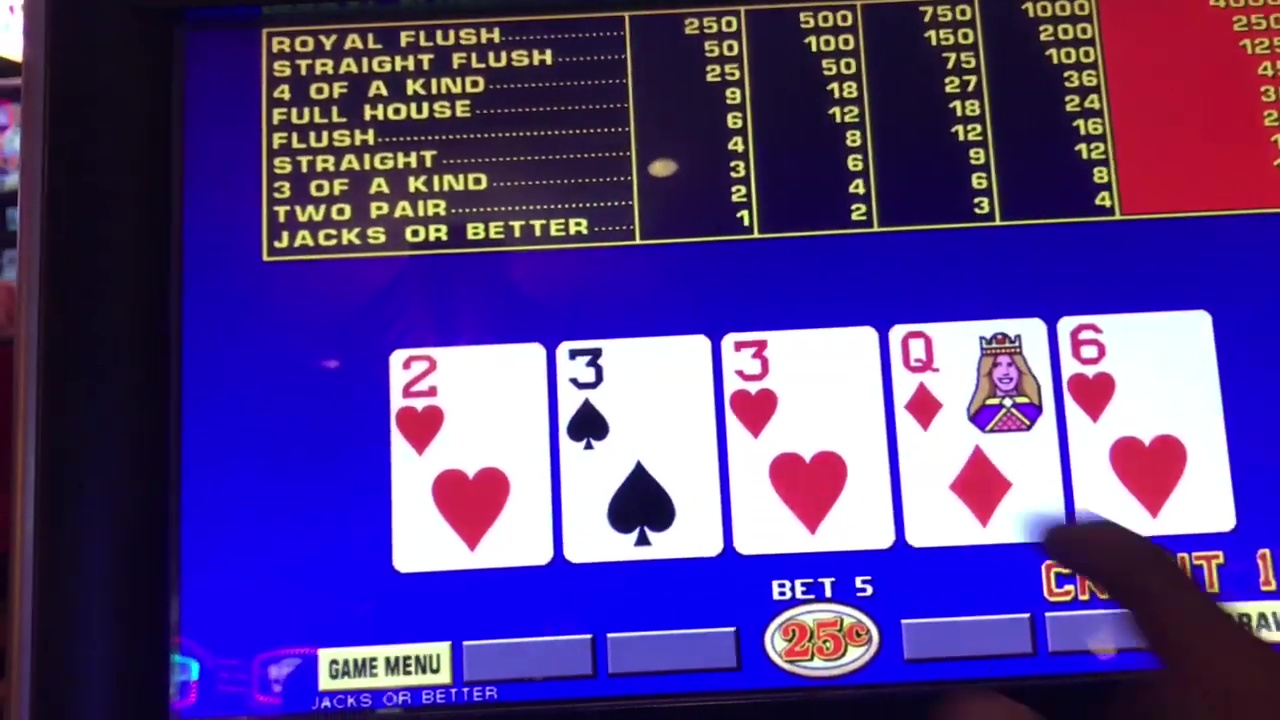DQ: (900, 326, 1045, 542)
H2: (392, 351, 548, 563)
H3: (727, 335, 890, 549)
H6: (1068, 309, 1218, 534)
S3: (564, 343, 714, 557)
